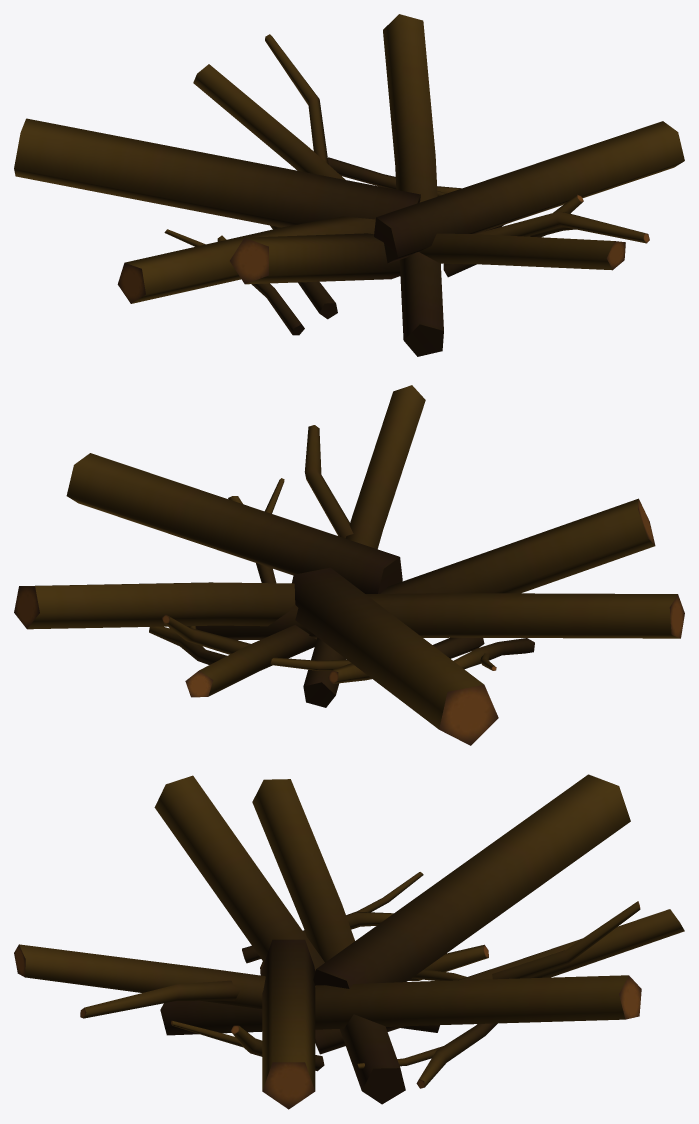
File: Firepit_Sticks.fbx
3 renders of one model, top to bottom at view 1: azimuth 30°, elevation 25°; view 2: azimuth 150°, elevation 25°; view 3: azimuth 270°, elevation 25°, orthographic. The views are drawn at different scales.
Parts seen in each view (by area): view 1: Firepit_Sticks; view 2: Firepit_Sticks; view 3: Firepit_Sticks.
Boxes of the visible parts, left/top/right/bottom form: Firepit_Sticks: left=14, top=14, right=684, bottom=356; Firepit_Sticks: left=14, top=385, right=684, bottom=745; Firepit_Sticks: left=14, top=774, right=684, bottom=1109.
Bounding box in the file's own units: 126 × 122 × 33.89.
Materials: 1 (1 with a texture image).
